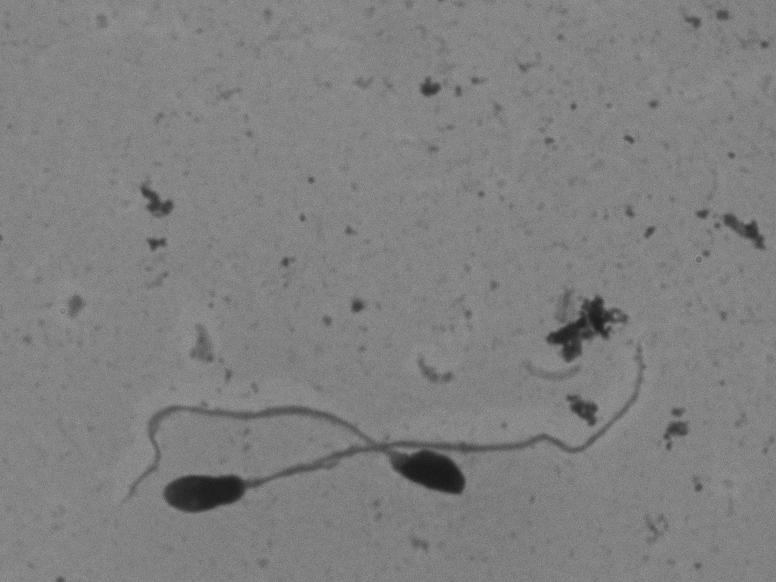Abnormal: (156, 319, 698, 528), (99, 392, 478, 524)
